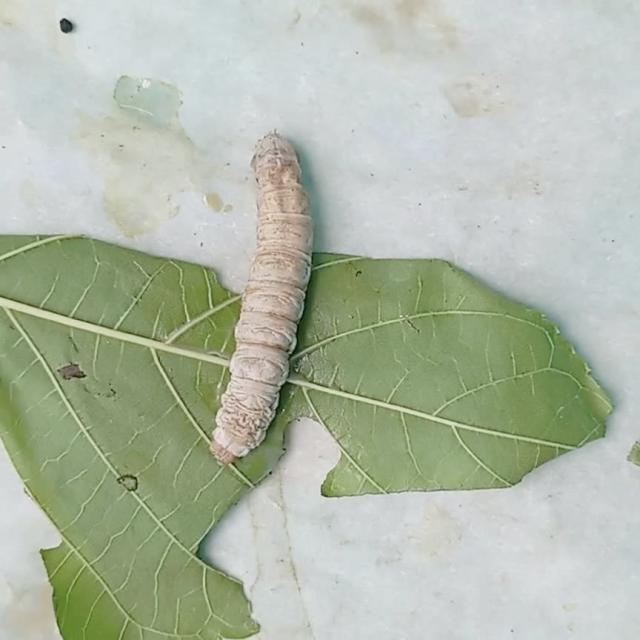Grasserie: (205, 120, 332, 472)
